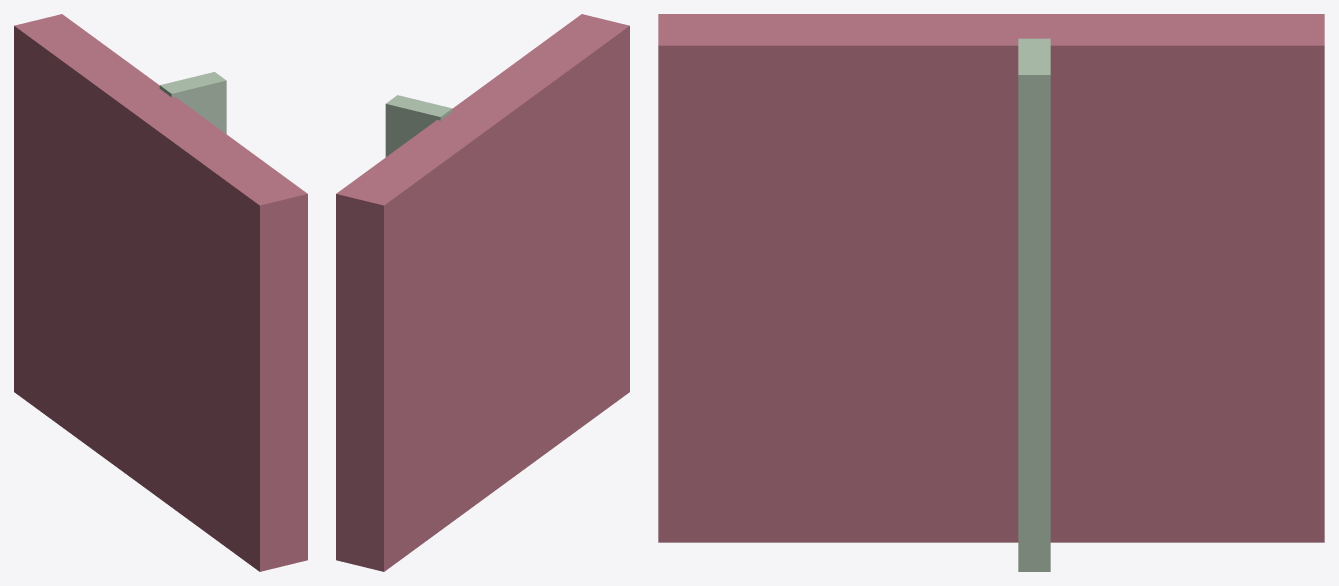
3 renders of one model, left to right at view 1: azimuth 30°, elevation 25°; view 2: azimuth 150°, elevation 25°; view 3: azimuth 270°, elevation 25°, orthographic. The views are drawn at different scales.
Parts seen in each view (by area): view 1: world; view 2: world; view 3: world.
Part boxes in pixels (x1,y1,x2,y2): world: (14,14,307,571); world: (336,14,629,571); world: (658,14,1324,571).
Bounding box in the file's own units: 1.45 × 5.15 × 6.2.
